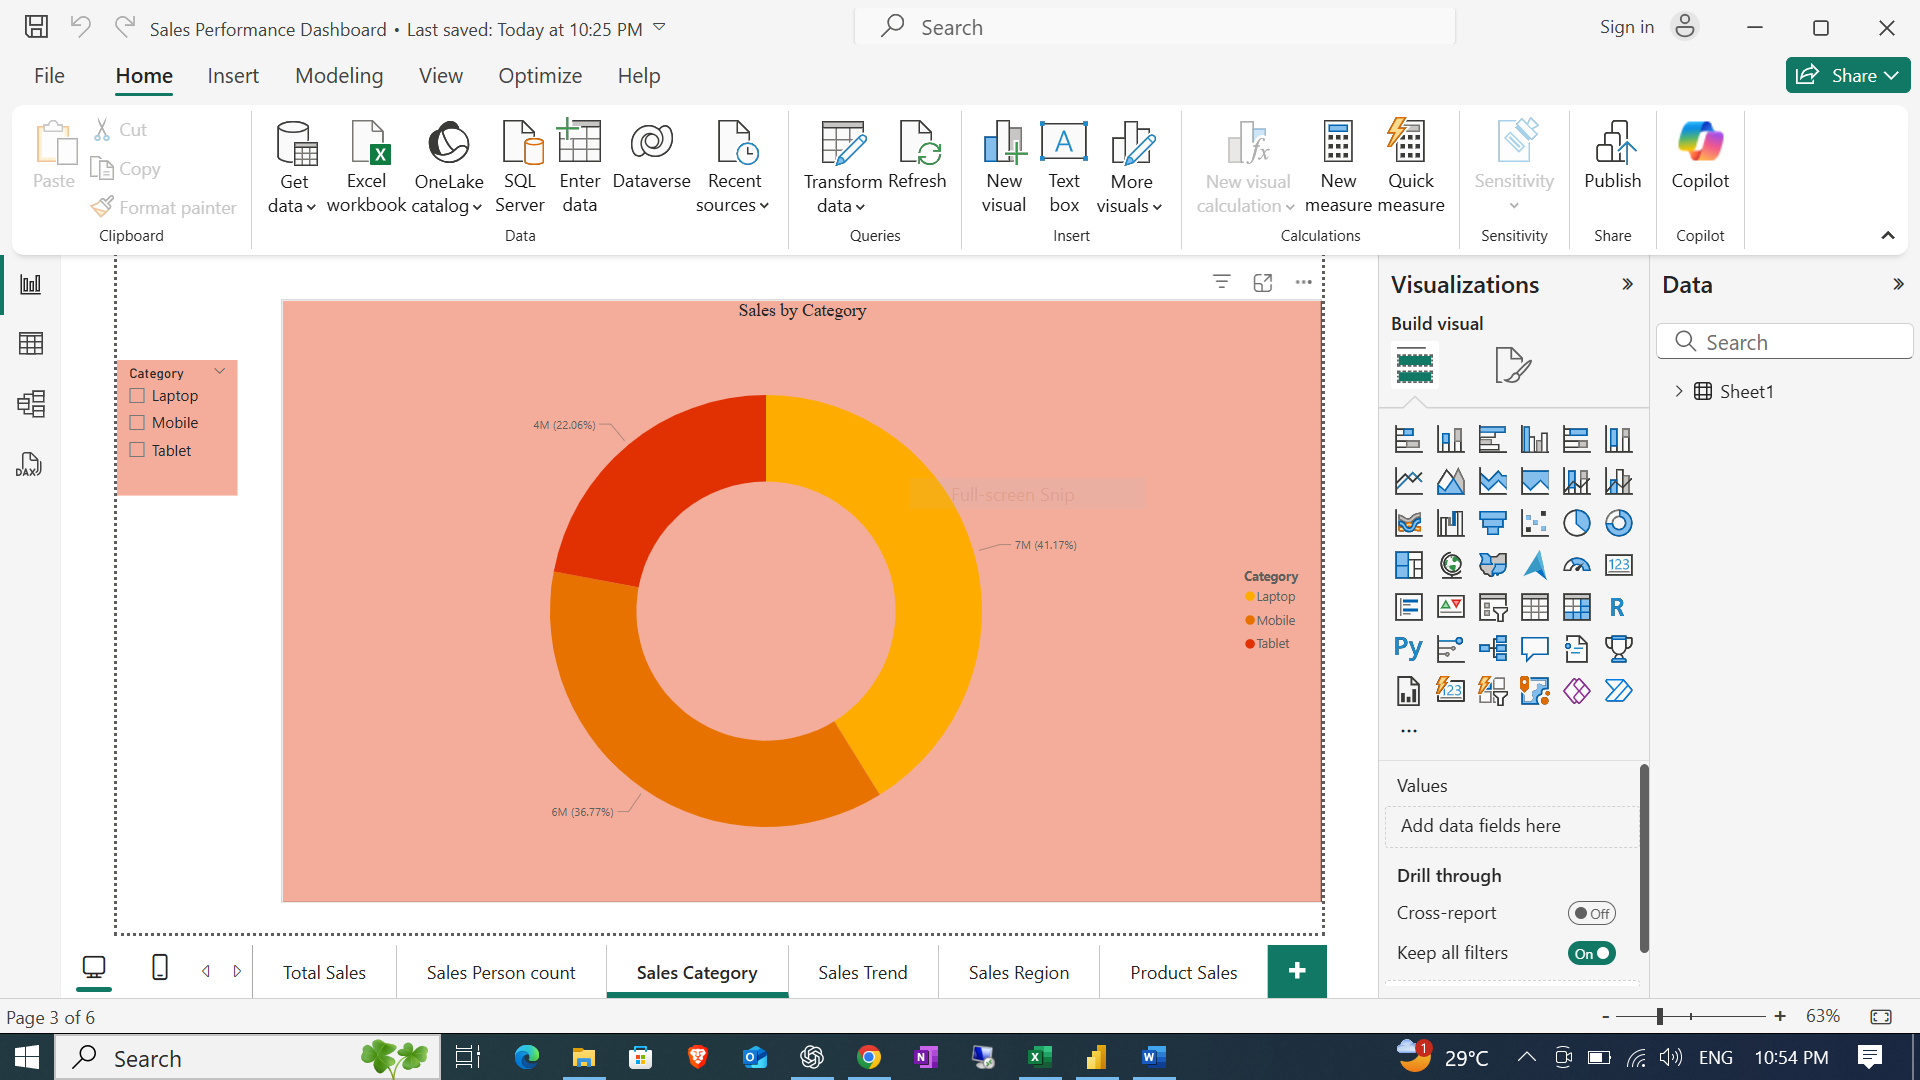

What the dashboard file says about the page in this screenshot:
{"tool":"powerbi","page":{"name":"Sales Category","canvas":[1280,720],"ordinal":2},"visuals":[{"type":"donutChart","title":"Sales by Category","fields":{"Category":["Sheet1.Category"],"Y":["Sum(Sheet1.Total Sales)"]},"box":[176,48,1104,640],"z":0},{"type":"slicer","fields":{"Values":["Sheet1.Category"]},"box":[0,112,128,144],"z":1000}]}

Visuals, with their boxes on the page's 1280x720 design canvas (x1, y1, x2, y2). These are canvas units, not pixel positions in the 1920x1080 screenshot, which may show the page scaled, cropped or inside an application window:
"Sales by Category" donutChart: 176, 48, 1280, 688
slicer - Sheet1.Category: 0, 112, 128, 256
